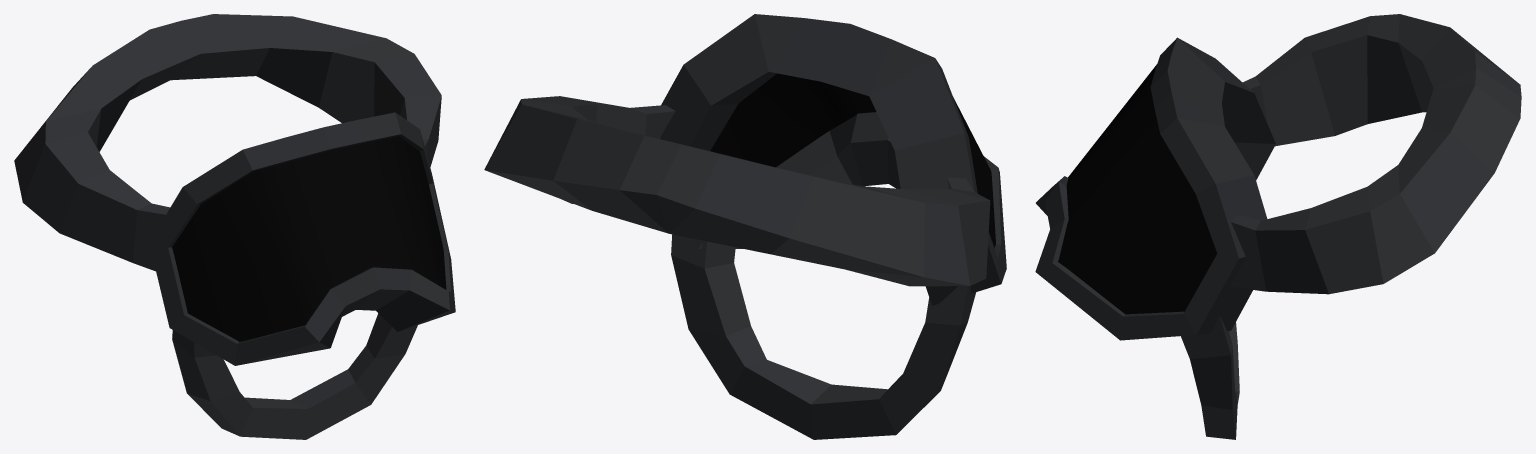
File: SM_Chr_Attach_Head_Goggles_Large_01.fbx
The picture shows the model from 3 angles, left to right: view 1: azimuth 30°, elevation 25°; view 2: azimuth 150°, elevation 25°; view 3: azimuth 270°, elevation 25°; orthographic projection. The views are drawn at different scales.
Parts seen in each view (by area): view 1: SM_Chr_Attach_Head_Goggles_Large_01; view 2: SM_Chr_Attach_Head_Goggles_Large_01; view 3: SM_Chr_Attach_Head_Goggles_Large_01.
Part boxes in pixels (left/top/right/bottom): SM_Chr_Attach_Head_Goggles_Large_01: left=14, top=14, right=455, bottom=439; SM_Chr_Attach_Head_Goggles_Large_01: left=484, top=14, right=1006, bottom=439; SM_Chr_Attach_Head_Goggles_Large_01: left=1035, top=14, right=1521, bottom=439.
Bounding box in the file's own units: 28.95 × 22.8 × 28.02.
